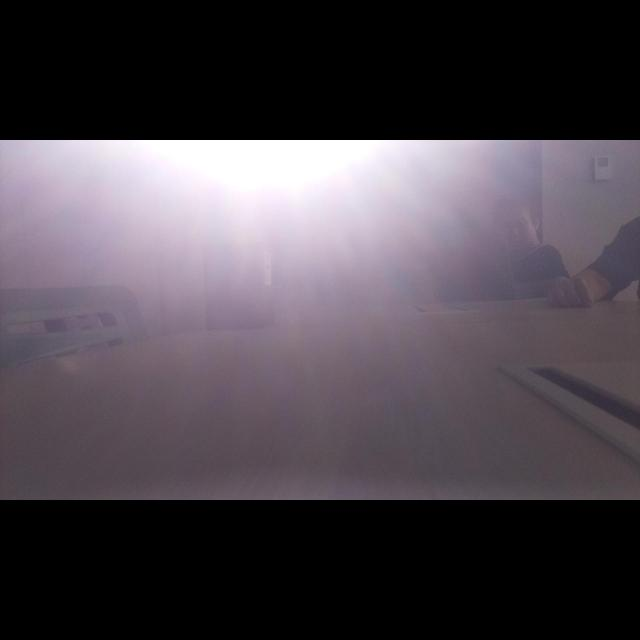F: (266, 255, 269, 281)
